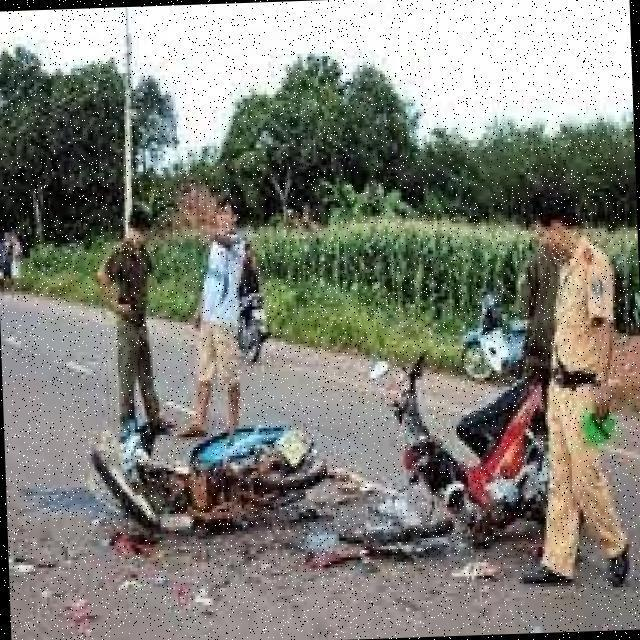accident: (62, 356, 591, 592)
